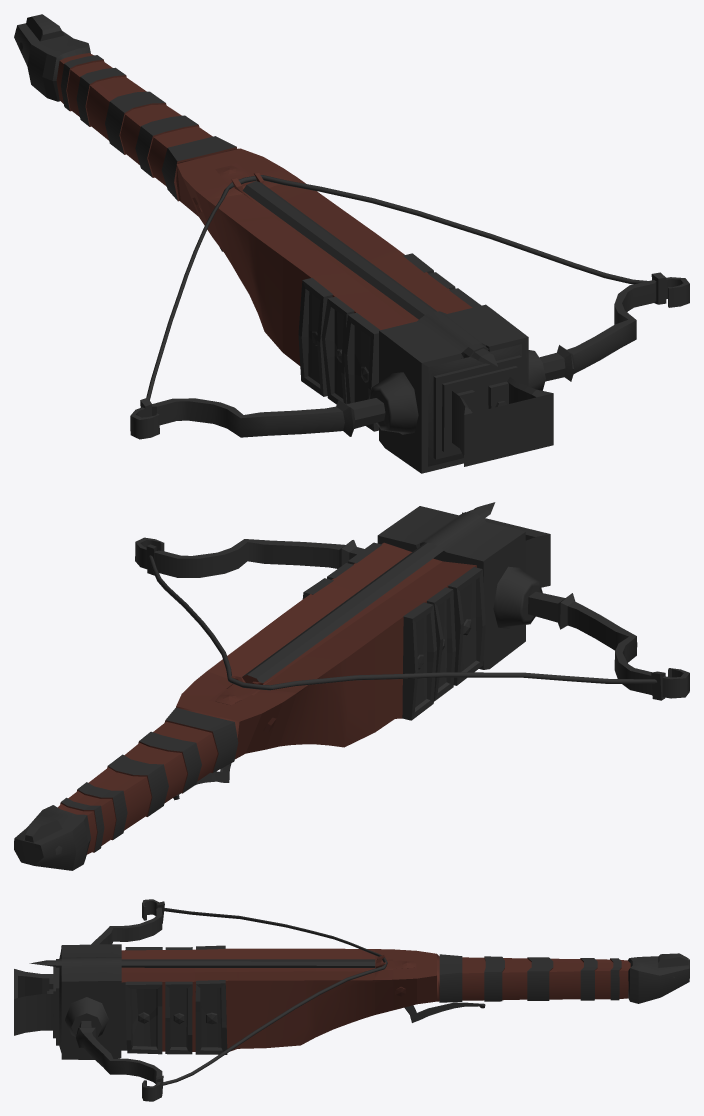
File: Elbow.fbx
3 views of the same model, one above another, from view 1: azimuth 30°, elevation 25°; view 2: azimuth 150°, elevation 25°; view 3: azimuth 270°, elevation 25° (orthographic). The views are drawn at different scales.
Visible parts, largest first — view 1: Ballesta.001, ArcoIzq.001, ArcoDer.001, Flecha.001, Chapa1Izq, Chapa3Izq.001, Chapa2Izq.001; view 2: Ballesta.001, ArcoIzq.001, ArcoDer.001, Flecha.001, Chapa1Izq, Chapa3Izq.001, Chapa2Izq.001; view 3: Ballesta.001, ArcoDer.001, Chapa3Der.001, Flecha.001, Chapa1Der.001, Chapa2Der.001, ArcoIzq.001.
Part boxes in pixels (x1,y1,x2,y2): Ballesta.001: (14, 14, 647, 473); ArcoIzq.001: (130, 372, 418, 439); ArcoDer.001: (528, 272, 689, 390); Flecha.001: (242, 181, 497, 366); Chapa1Izq: (298, 278, 332, 396); Chapa3Izq.001: (344, 312, 379, 431); Chapa2Izq.001: (321, 296, 354, 404); Ballesta.001: (14, 506, 657, 870); ArcoIzq.001: (493, 566, 689, 700); ArcoDer.001: (135, 537, 364, 577); Flecha.001: (243, 502, 495, 682); Chapa1Izq: (402, 602, 436, 720); Chapa3Izq.001: (448, 567, 485, 685); Chapa2Izq.001: (427, 587, 455, 701); Ballesta.001: (14, 908, 689, 1085); ArcoDer.001: (65, 997, 163, 1101); Chapa3Der.001: (125, 981, 162, 1054); Flecha.001: (29, 959, 375, 967); Chapa1Der.001: (195, 980, 227, 1054); Chapa2Der.001: (165, 981, 192, 1054); ArcoIzq.001: (91, 899, 164, 944).
Size of the model in its own units: 4.33 by 0.9261 by 6.49.
Materials: 2 (2 with a texture image).
